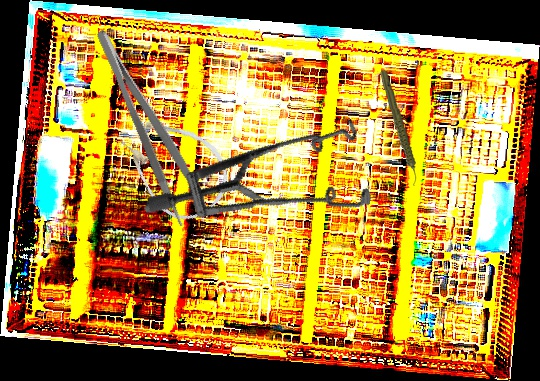Cannula: (104, 96, 245, 235)
Dressing Forceps: (91, 19, 212, 229)
Handpiece: (378, 68, 419, 188)
Speculum: (142, 60, 397, 290)
